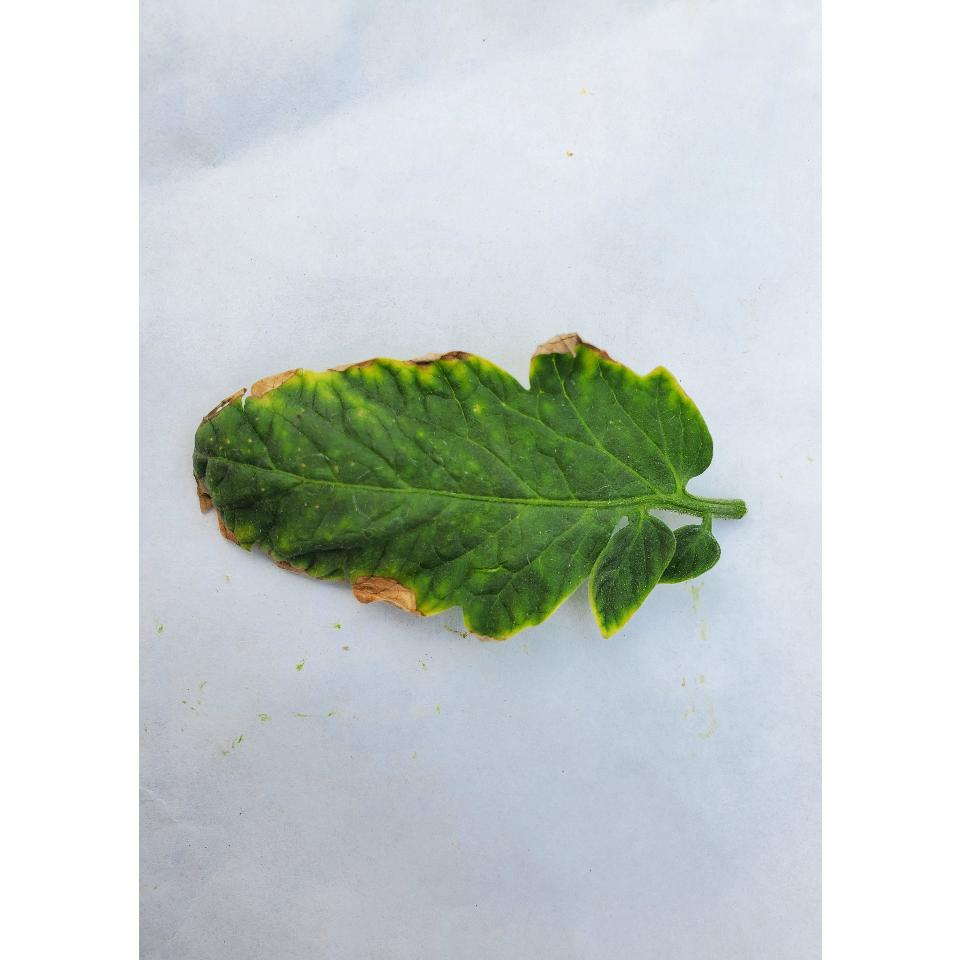tomato_bacterial_blight: (183, 348, 760, 628)
